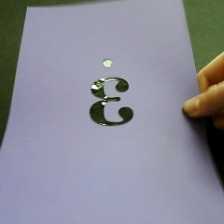violet3: (83, 56, 138, 130)
